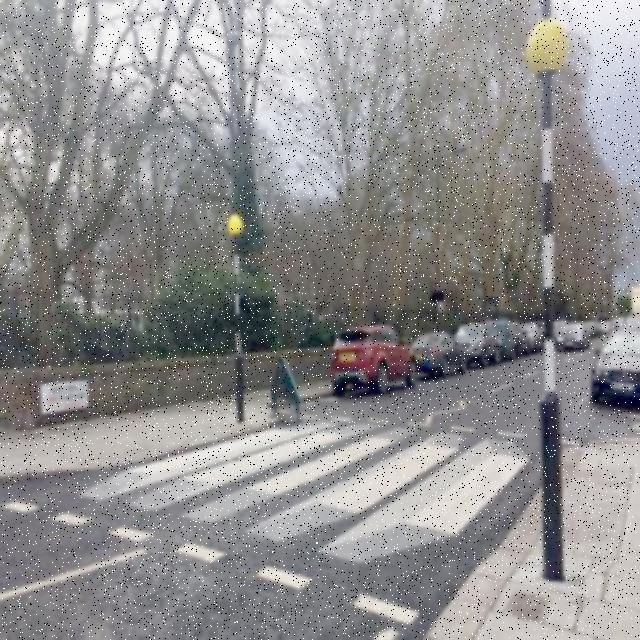Pedestrian crosswalk: (67, 398, 529, 600)
